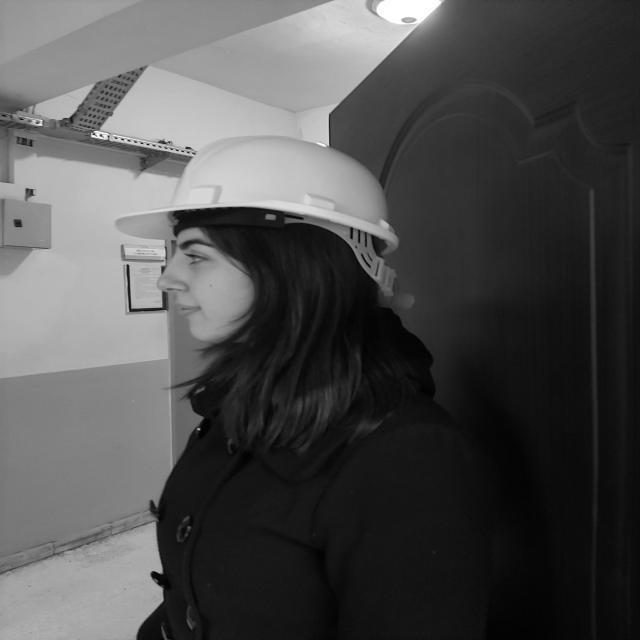safety_helmet: (113, 135, 400, 296)
